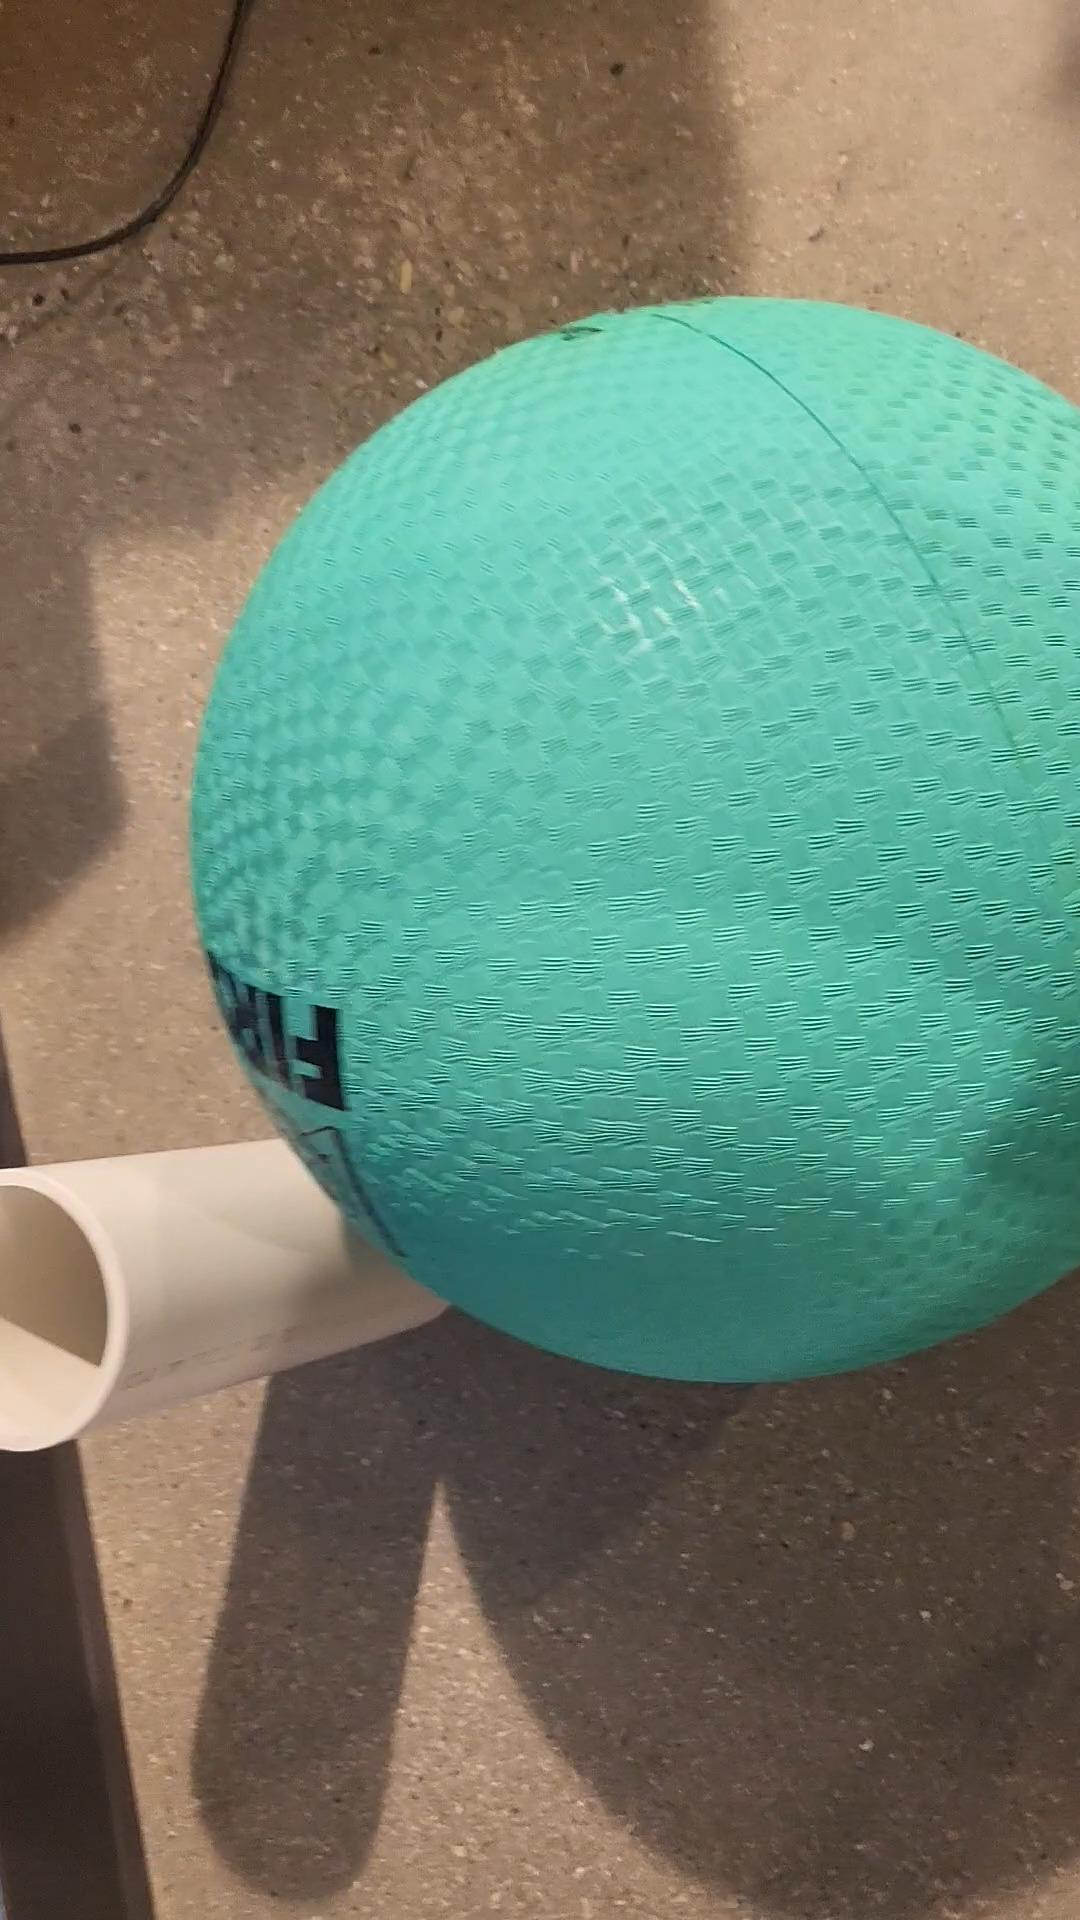algae: (185, 293, 1079, 1378)
coral: (0, 1139, 469, 1452)
